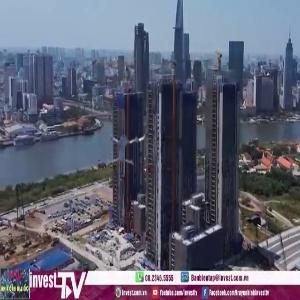drone: (98, 119, 150, 171)
